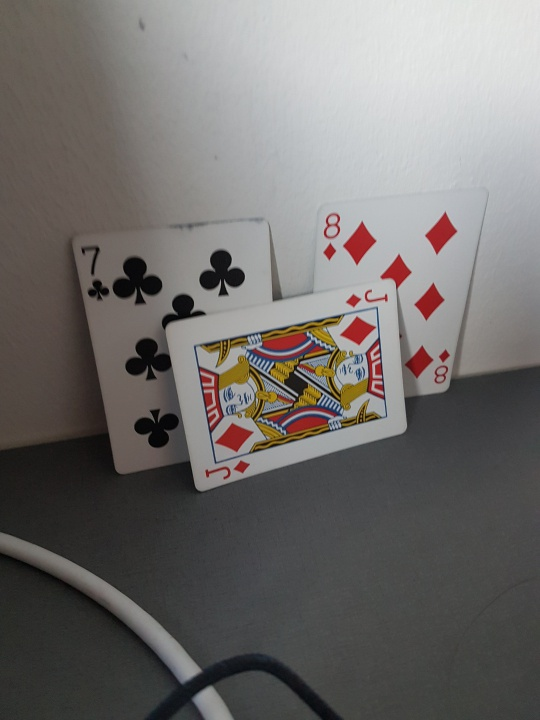7: (63, 228, 277, 478)
8: (316, 199, 482, 397)
jack: (165, 280, 409, 497)
